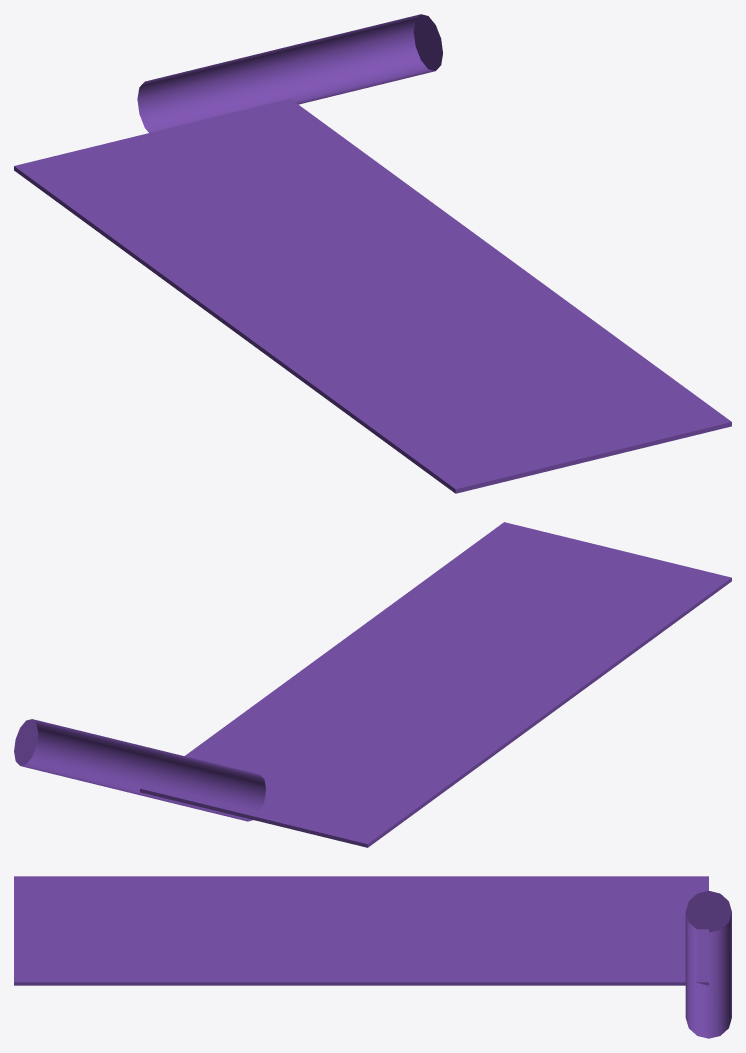
Rendered from yoga_mat.glb.
The picture shows the model from 3 angles, top to bottom: view 1: azimuth 30°, elevation 25°; view 2: azimuth 150°, elevation 25°; view 3: azimuth 270°, elevation 25°; orthographic projection. The views are drawn at different scales.
Visible parts, largest first — view 1: yoga_mat; view 2: yoga_mat; view 3: yoga_mat.
Part boxes in pixels (bbox=[...]): yoga_mat: bbox=[14, 14, 731, 493]; yoga_mat: bbox=[14, 522, 731, 847]; yoga_mat: bbox=[14, 876, 731, 1038].
Bounding box in the file's own units: 0.975 × 0.12 × 1.86.
